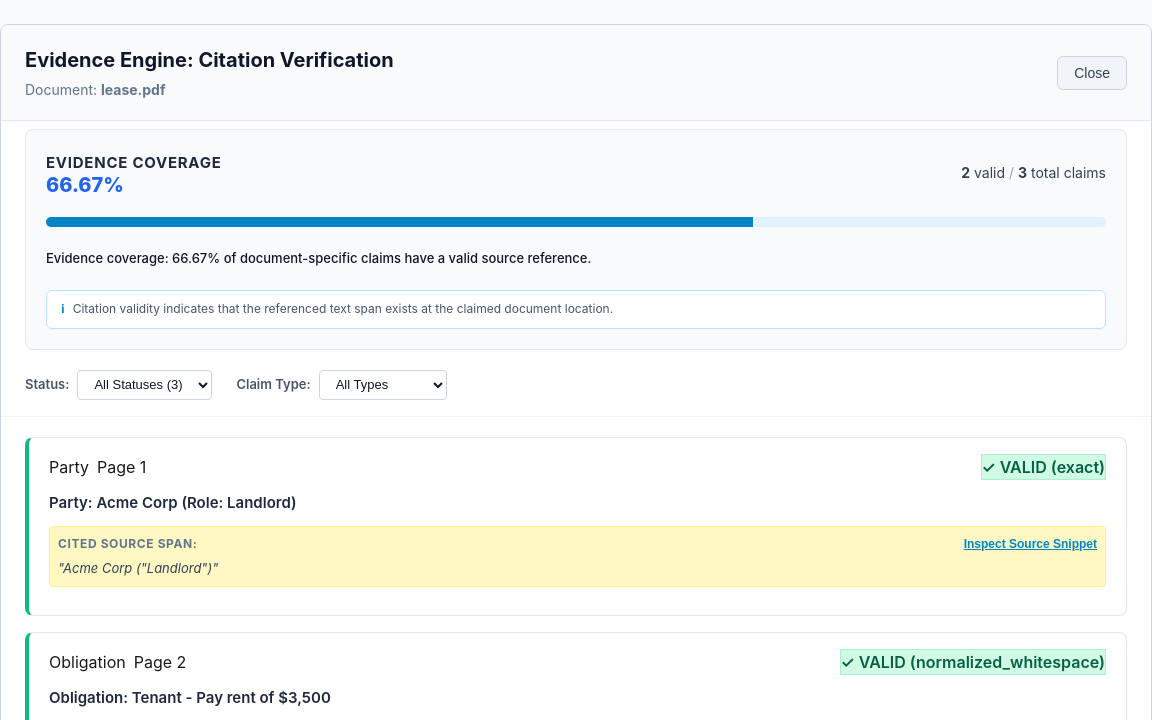
Test: EvidenceViewer Component › opens and closes the source inspection modal
This screenshot has width=1152, height=720.
Click the button with test id "inspect-btn-claim-1" at (1030, 544), box [964,538,1097,552]
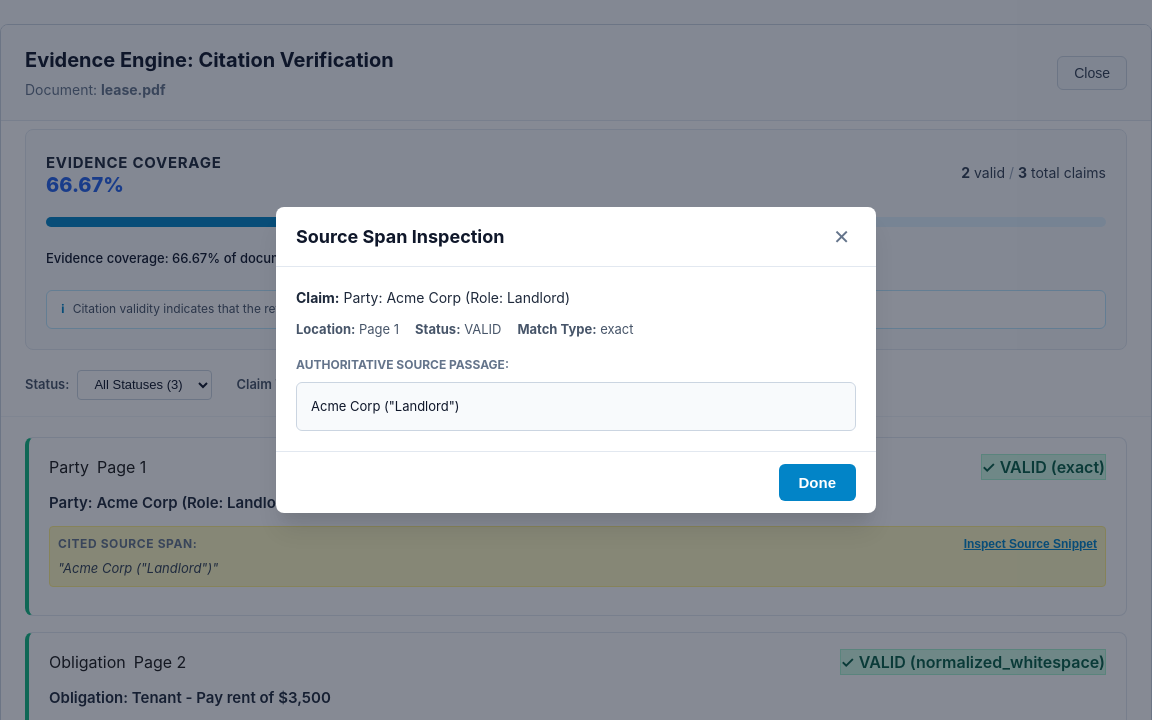
expect the heading "Source Span Inspection" is shown: met, box [296,223,504,250]
expect the text "Authoritative Source Passage:" is shown: met, box [296,356,509,372]
Click the button with test id "close-source-inspector" at (842, 236), box [827,224,856,250]
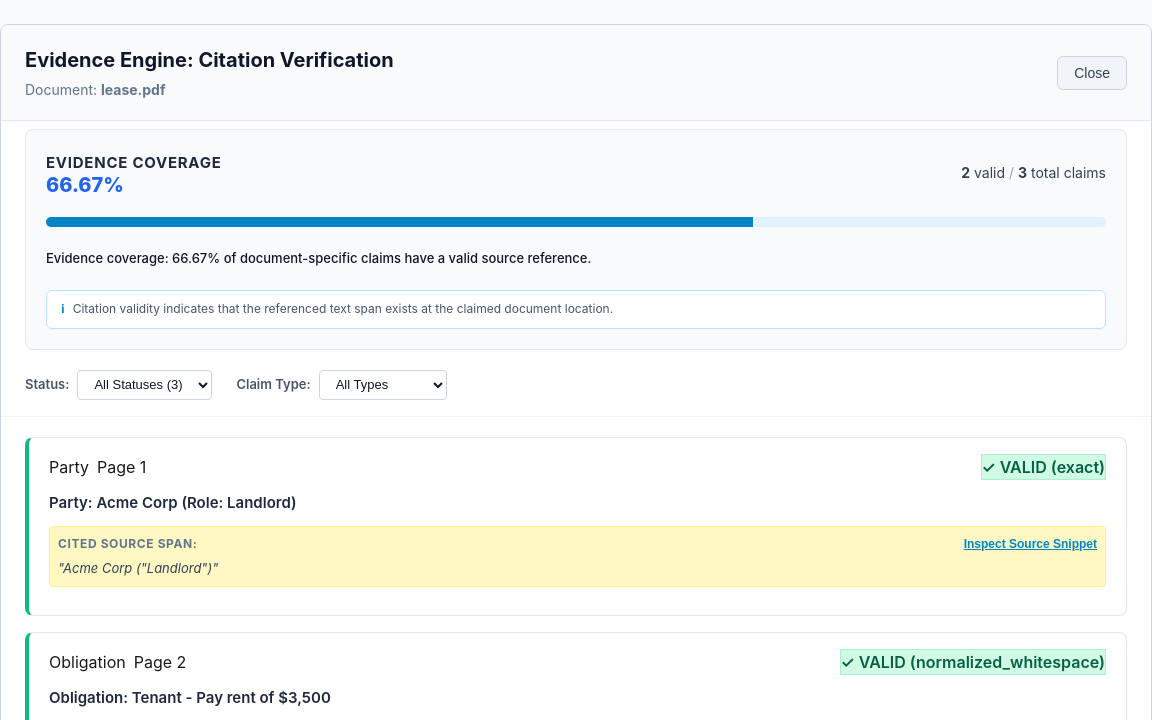
expect the heading "Source Span Inspection" is gone: met
